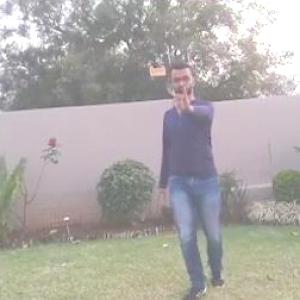takeoff-hand: (164, 82, 199, 119)
